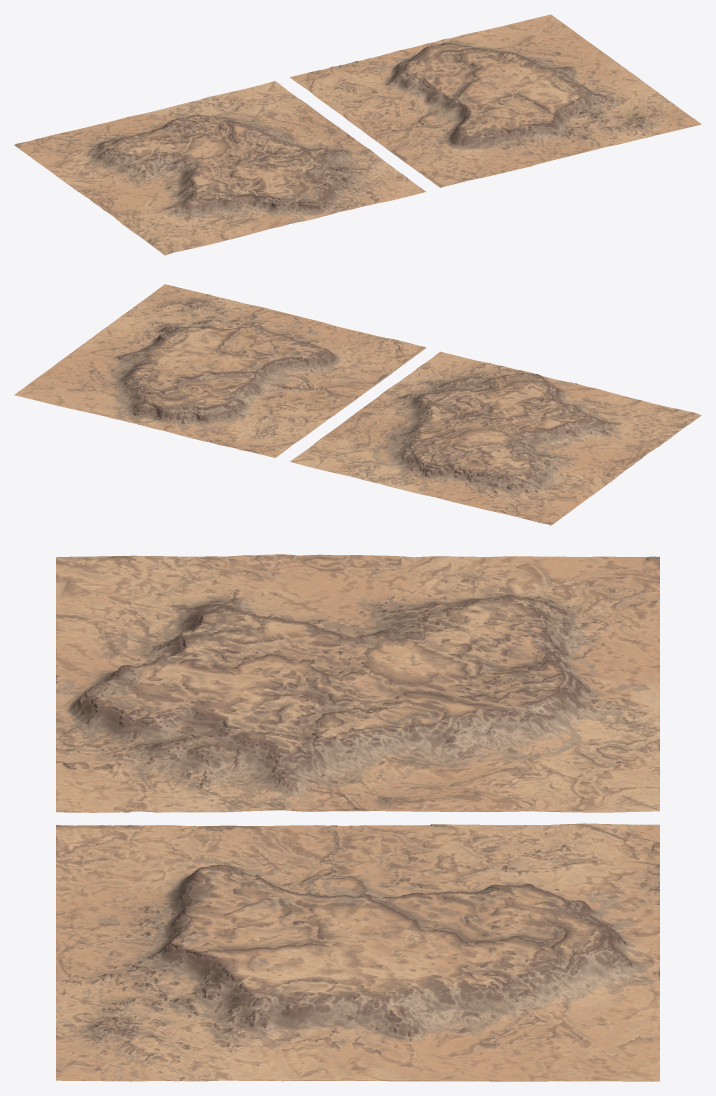
Rendered from desert_mountain_pack_01.glb.
The picture shows the model from 3 angles, top to bottom: view 1: azimuth 30°, elevation 25°; view 2: azimuth 150°, elevation 25°; view 3: azimuth 270°, elevation 25°; orthographic projection. The views are drawn at different scales.
Parts seen in each view (by area): view 1: Mesher, Mesher_2; view 2: Mesher, Mesher_2; view 3: Mesher_2, Mesher.
Boxes of the visible parts, x1,y1,x2,y2 form: Mesher: (14, 81, 425, 255); Mesher_2: (290, 14, 701, 187); Mesher: (290, 351, 701, 525); Mesher_2: (14, 284, 425, 457); Mesher_2: (56, 823, 659, 1081); Mesher: (56, 554, 659, 812).
Size of the model in its own units: 103 by 2.12 by 49.98.
2 materials, 2 textured.
